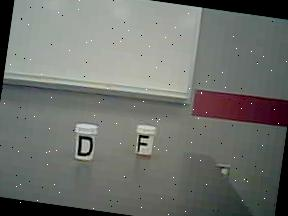Bottle D: (64, 119, 104, 168)
Bottle F: (128, 120, 162, 165)
